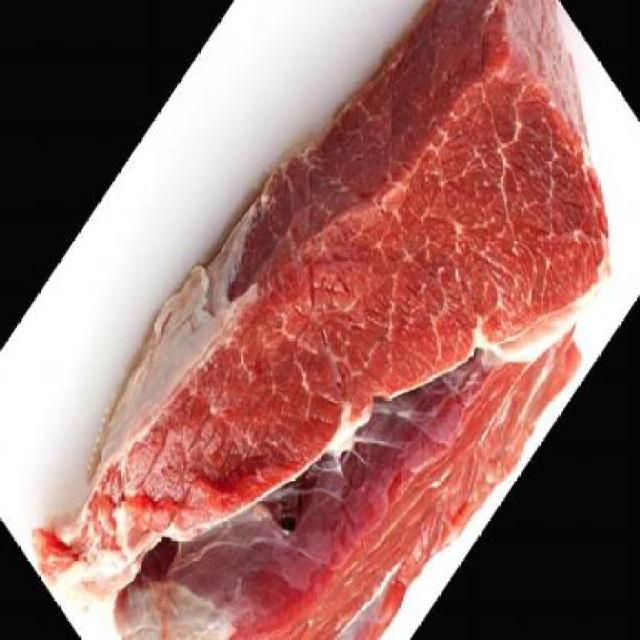beef: (50, 0, 612, 599), (111, 320, 586, 632)
